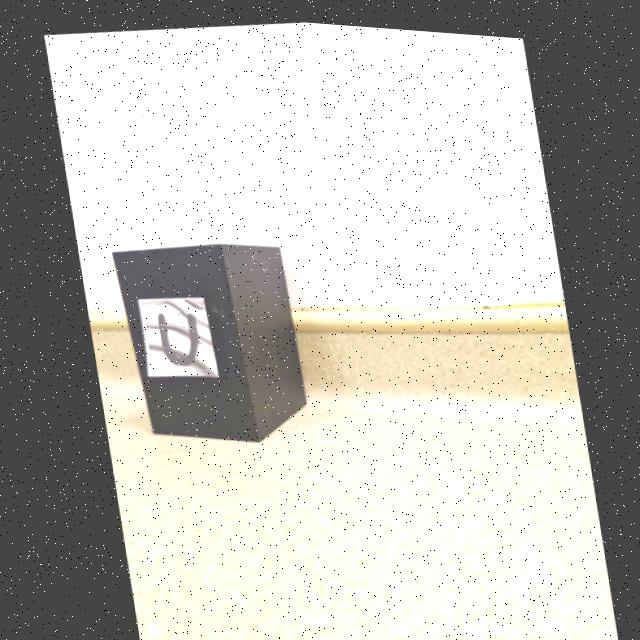U: (156, 310, 195, 363)
